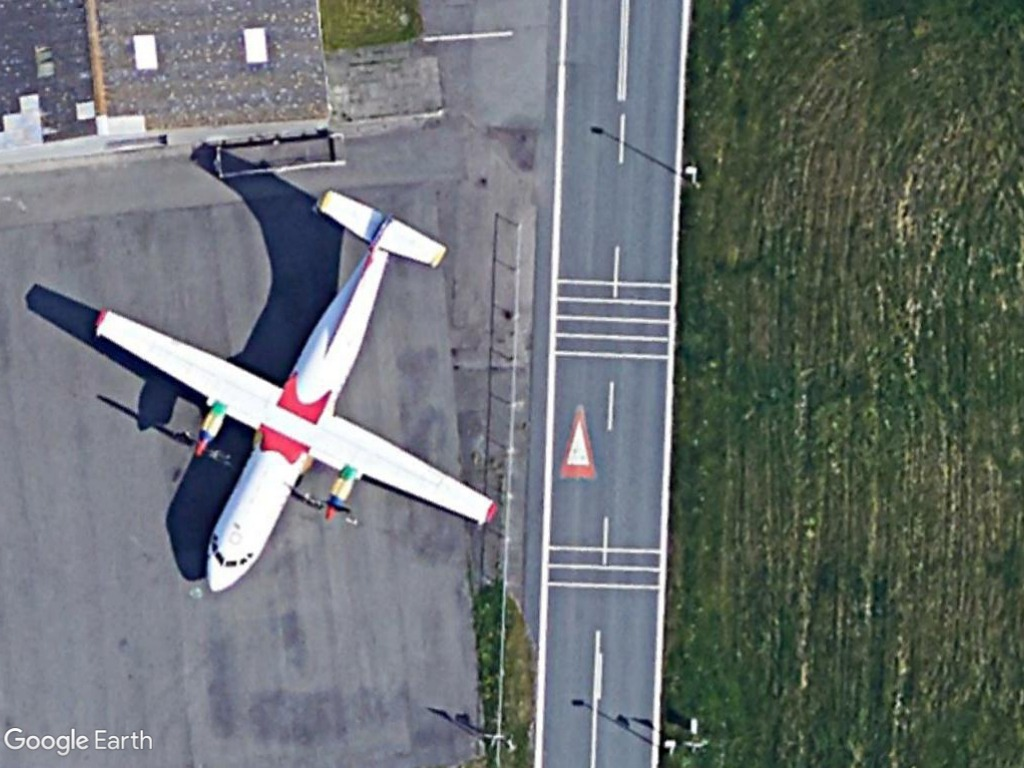propeller: (88, 184, 503, 596)
